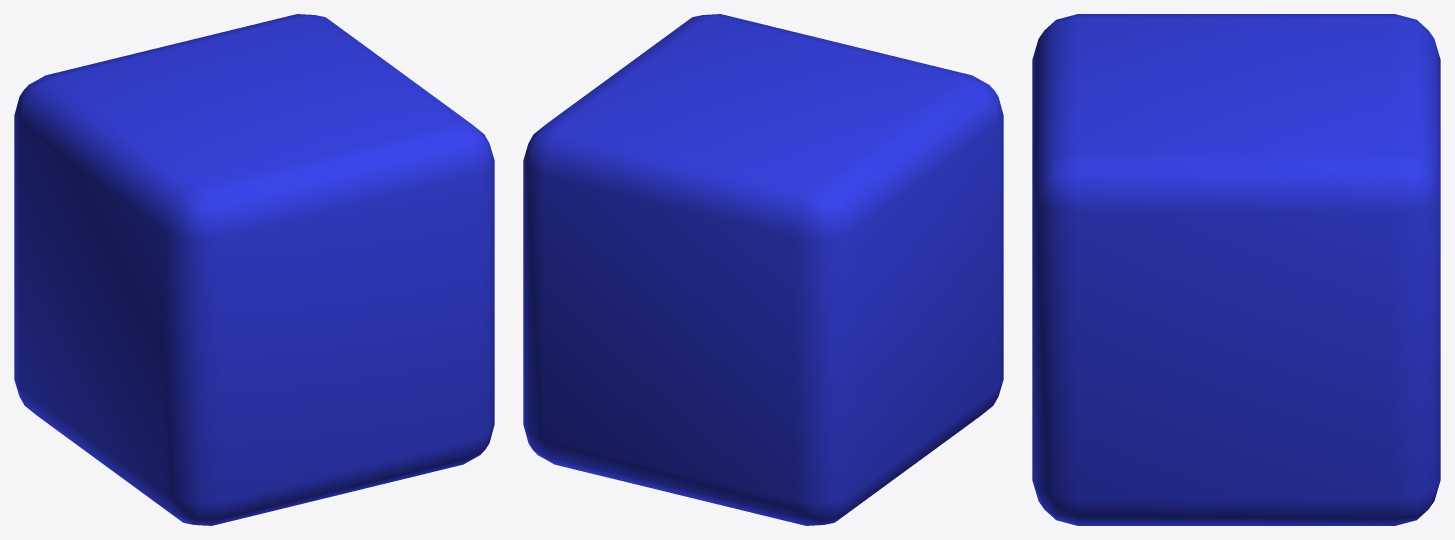
File: bluecube.fbx
3 renders of one model, left to right at view 1: azimuth 30°, elevation 25°; view 2: azimuth 150°, elevation 25°; view 3: azimuth 270°, elevation 25°, orthographic. The views are drawn at different scales.
Parts seen in each view (by area): view 1: Cube; view 2: Cube; view 3: Cube.
Part boxes in pixels (x1,y1,x2,y2): Cube: [14, 14, 494, 525]; Cube: [523, 14, 1003, 525]; Cube: [1032, 14, 1440, 525].
Size of the model in its own units: 159 by 159 by 159.
